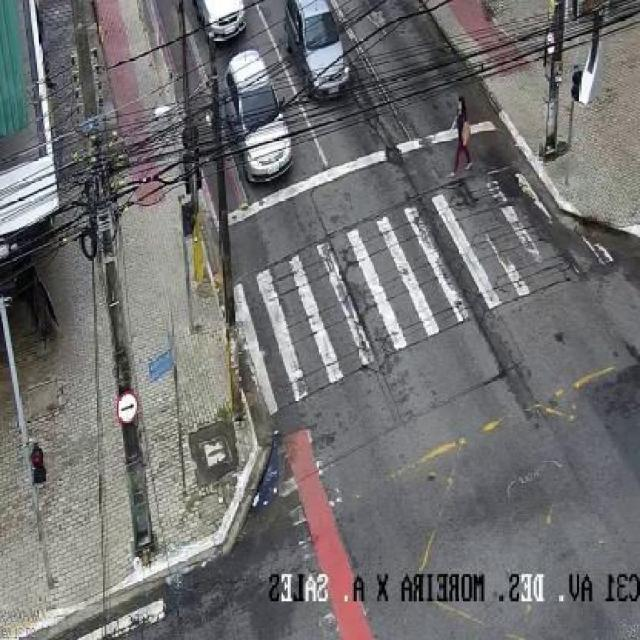Car: (217, 44, 306, 190), (285, 0, 367, 111), (183, 0, 259, 46)
